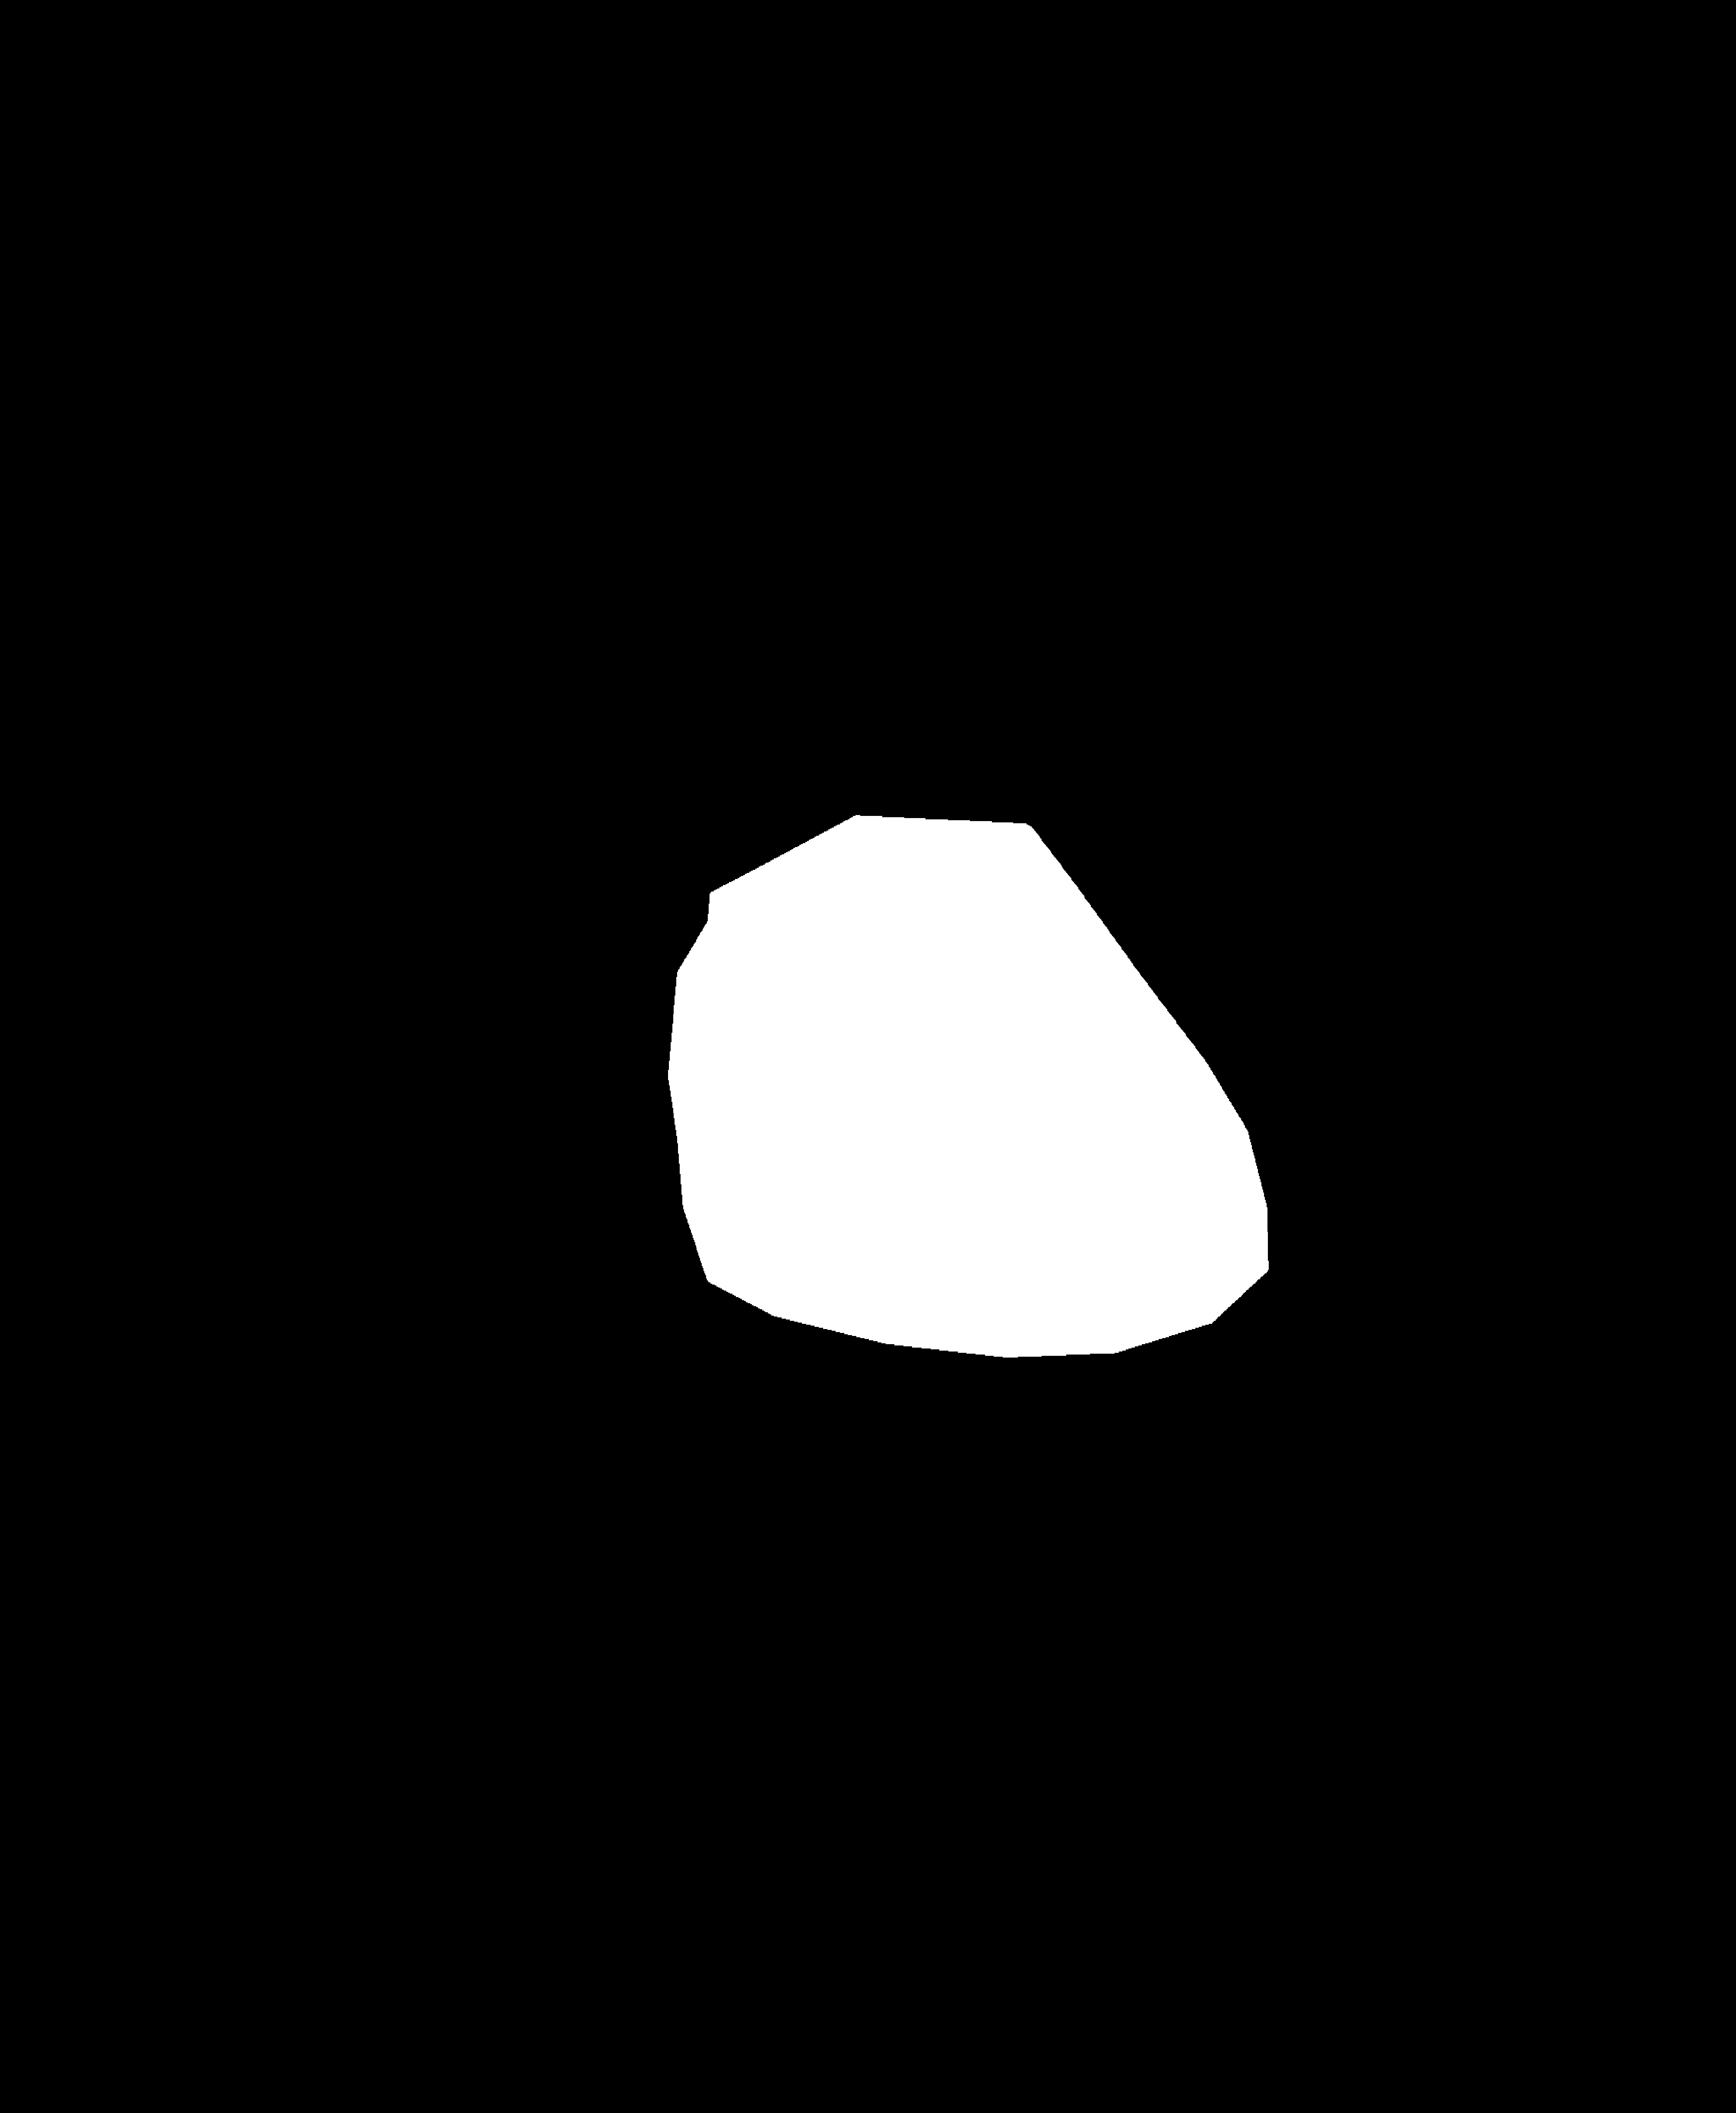heart: (672, 925, 1266, 1474)
left_lung: (218, 200, 748, 1534)
right_lung: (860, 167, 1508, 1448)
